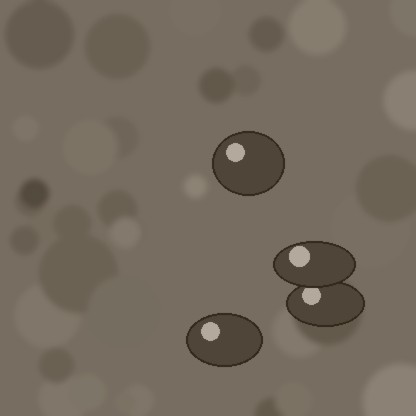gota: (212, 133, 284, 201), (186, 315, 262, 371), (273, 243, 355, 291), (286, 282, 364, 330)
